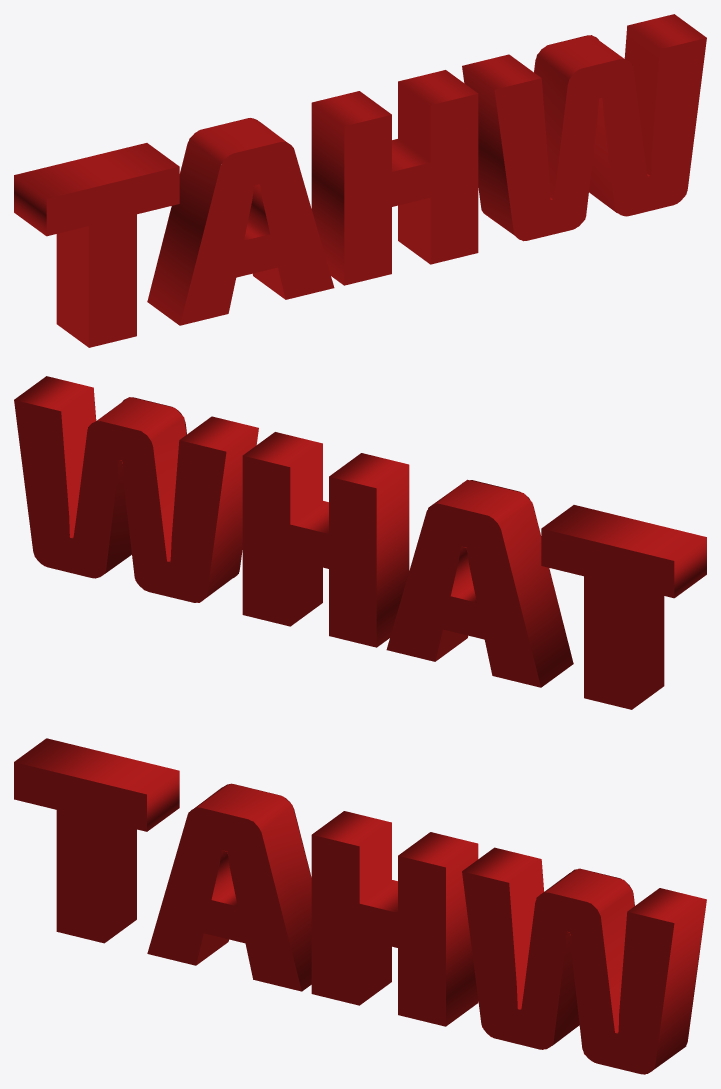
File: what.fbx
The picture shows the model from 3 angles, top to bottom: view 1: azimuth 30°, elevation 25°; view 2: azimuth 150°, elevation 25°; view 3: azimuth 330°, elevation 25°; orthographic projection.
Parts seen in each view (by area): view 1: Text; view 2: Text; view 3: Text.
Boxes of the visible parts, x1,y1,x2,y2 form: Text: (14, 14, 706, 347); Text: (14, 376, 706, 709); Text: (14, 738, 706, 1074).
Size of the model in its own units: 9.38 by 2.16 by 0.8.
